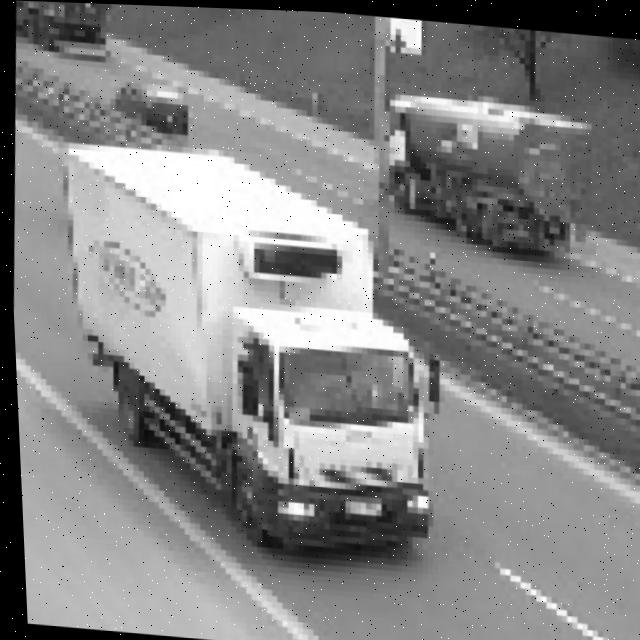truck: (202, 283, 462, 560), (377, 73, 609, 264)
